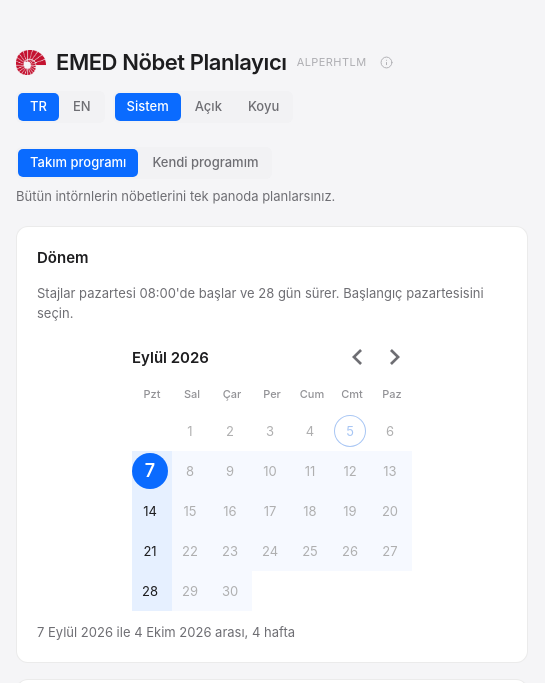
import menu and solo mode › solo mode collapses the setup to one person and hides the team cards
Click the radio button labelled "Kendi programım": click(205, 163) [140,149,270,177]
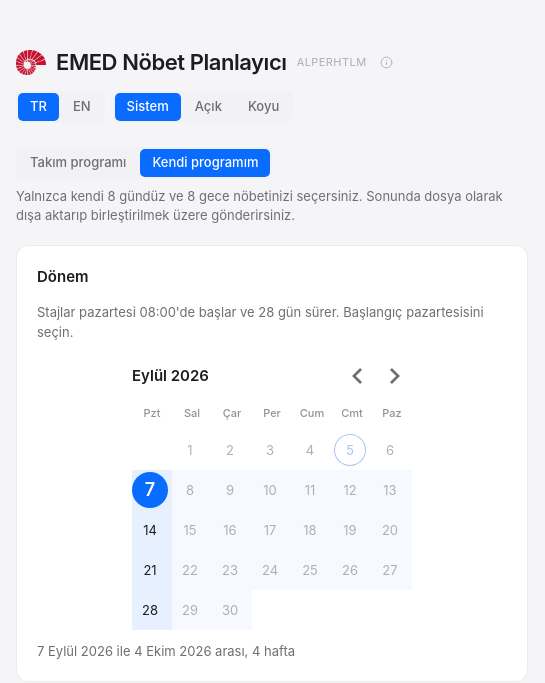
Note: Back to a team: the roster returns and so do the team controls.
Click the radio button labelled "Takım programı": click(78, 163) [18,149,138,177]
(page scrolled)
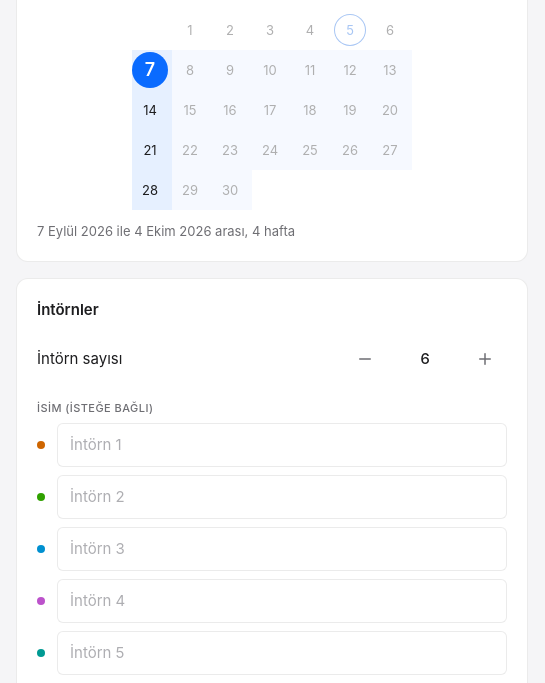
Check: the text "İntörn sayısı" is shown, box [37,348,122,370]
